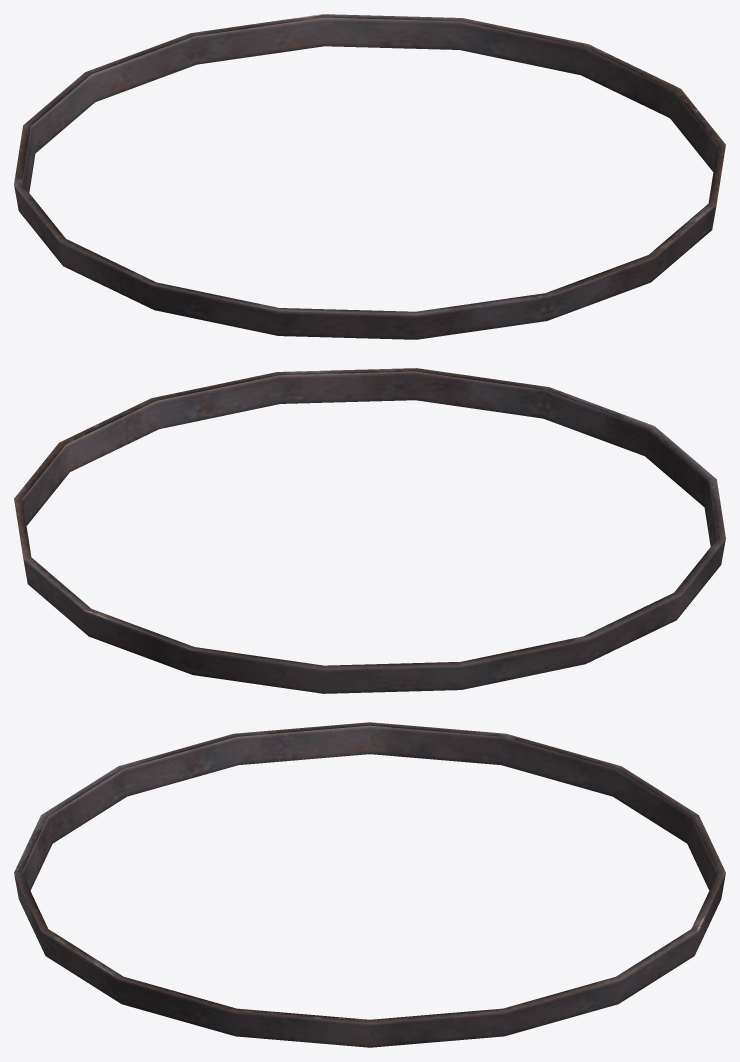
The model's file is flower_barrel_p10.glb.
3 views of the same model, one above another, from view 1: azimuth 30°, elevation 25°; view 2: azimuth 150°, elevation 25°; view 3: azimuth 270°, elevation 25° (orthographic).
Parts seen in each view (by area): view 1: flower_barrel_p10; view 2: flower_barrel_p10; view 3: flower_barrel_p10.
Part boxes in pixels (left/top/right/bottom): flower_barrel_p10: left=14, top=14, right=725, bottom=339; flower_barrel_p10: left=14, top=368, right=725, bottom=693; flower_barrel_p10: left=14, top=722, right=725, bottom=1047.
Bounding box in the file's own units: 0.7146 × 0.0294 × 0.7146.
Materials: 1 (1 with a texture image).
